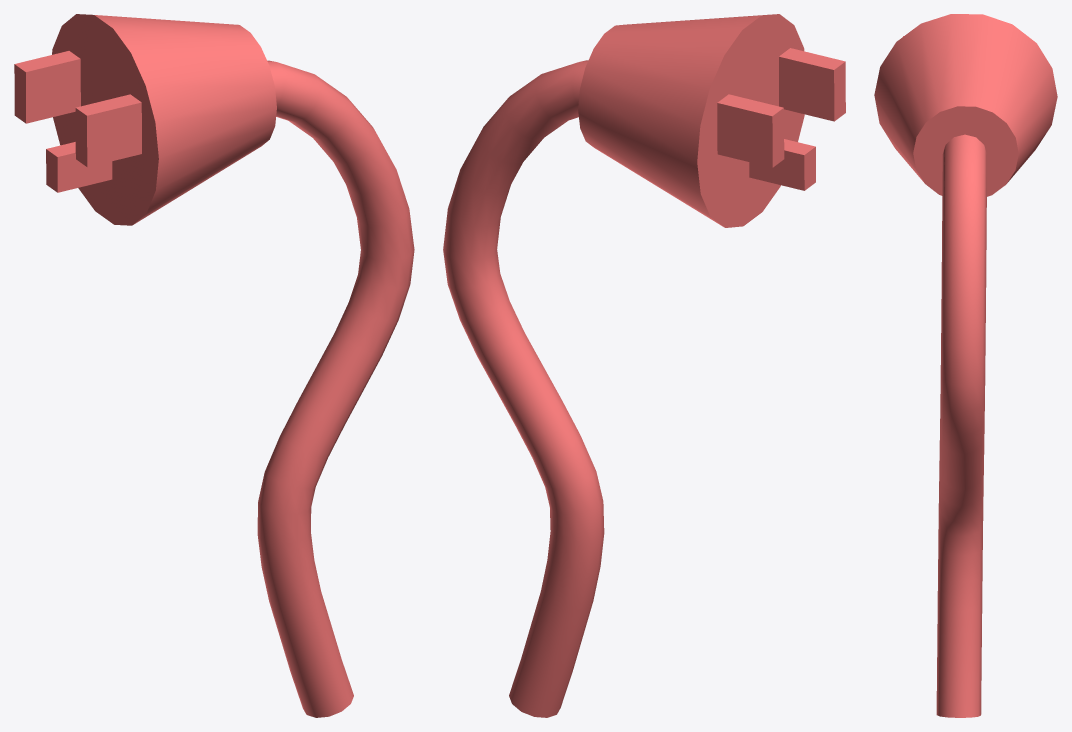
The model's file is enchufe_animacion.fbx.
The picture shows the model from 3 angles, left to right: view 1: azimuth 30°, elevation 25°; view 2: azimuth 150°, elevation 25°; view 3: azimuth 270°, elevation 25°; orthographic projection. The views are drawn at different scales.
Parts seen in each view (by area): view 1: Object041, Object045; view 2: Object041, Object045; view 3: Object045, Object041.
Part boxes in pixels (x1,y1,x2,y2): Object041: (14,14,276,225); Object045: (257,60,414,717); Object041: (578,14,845,227); Object045: (443,60,604,717); Object045: (936,134,986,717); Object041: (874,14,1057,196).
Bounding box in the file's own units: 2.79 × 5.47 × 1.47.
